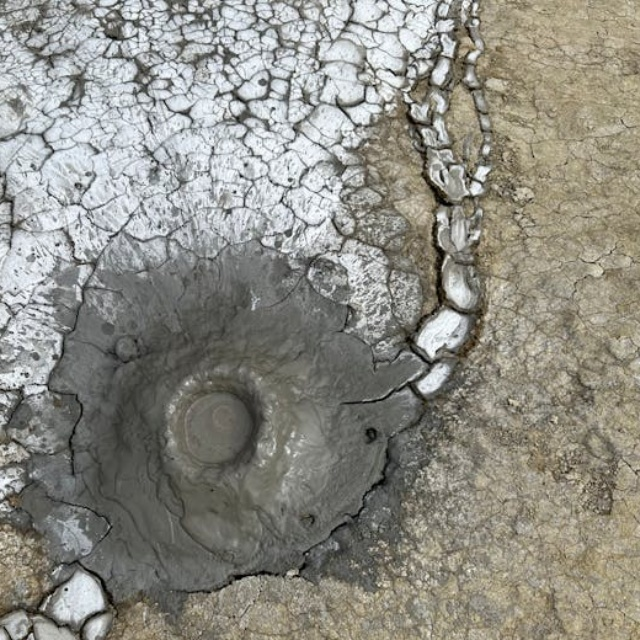细微裂纹: (366, 89, 501, 447)
网状裂隙: (0, 51, 612, 640), (230, 0, 623, 640), (50, 182, 444, 640), (0, 168, 332, 582), (0, 26, 273, 514), (320, 117, 493, 640), (0, 49, 130, 451), (0, 562, 153, 640)
